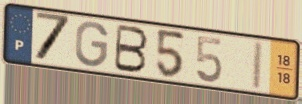5: (154, 27, 187, 82), (194, 34, 224, 85)
7: (34, 10, 73, 66)
B: (112, 22, 151, 75)
G: (73, 19, 111, 69)
I: (249, 38, 266, 94)
